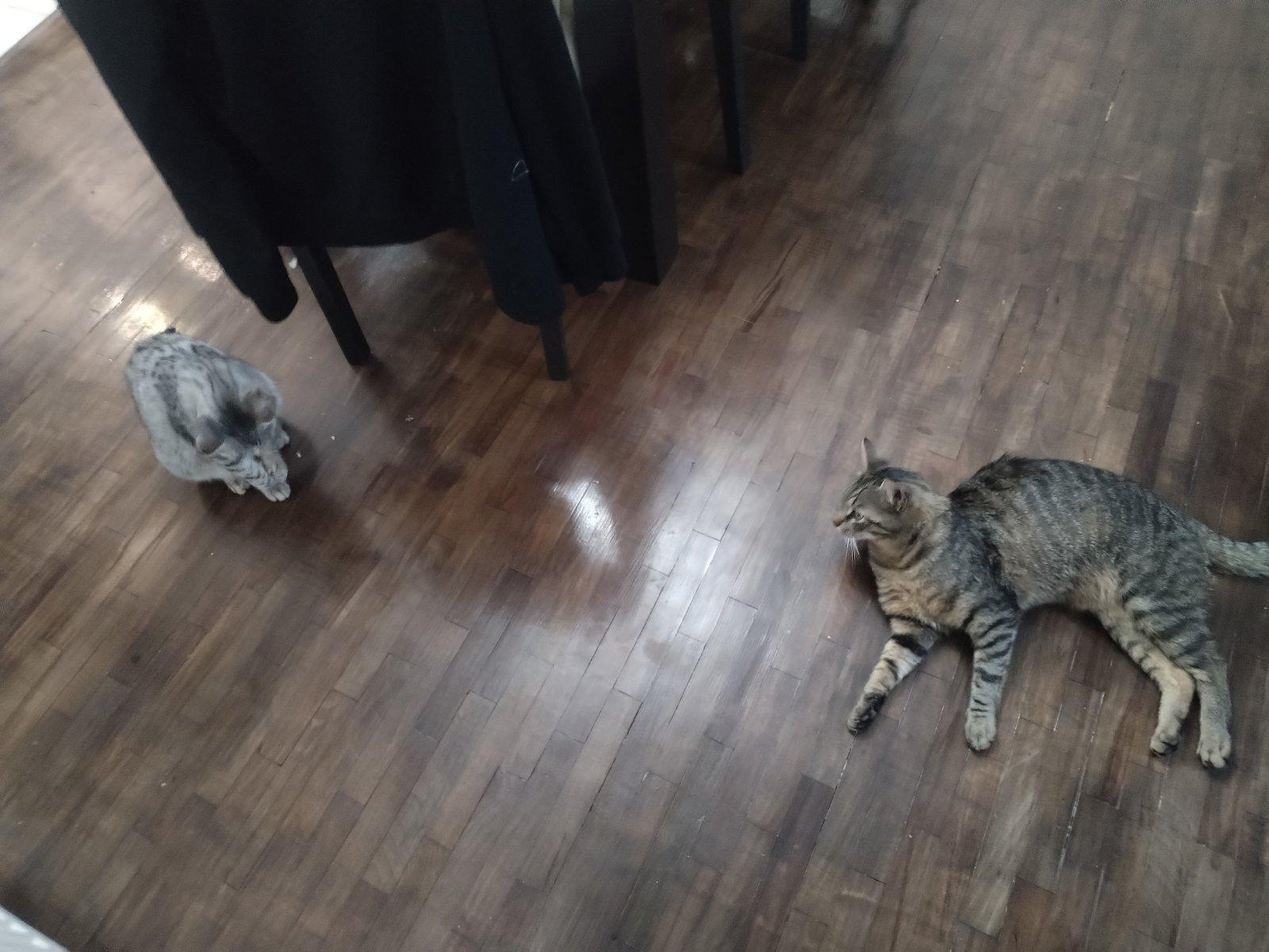macka: (833, 435, 1268, 772), (119, 323, 295, 502)
